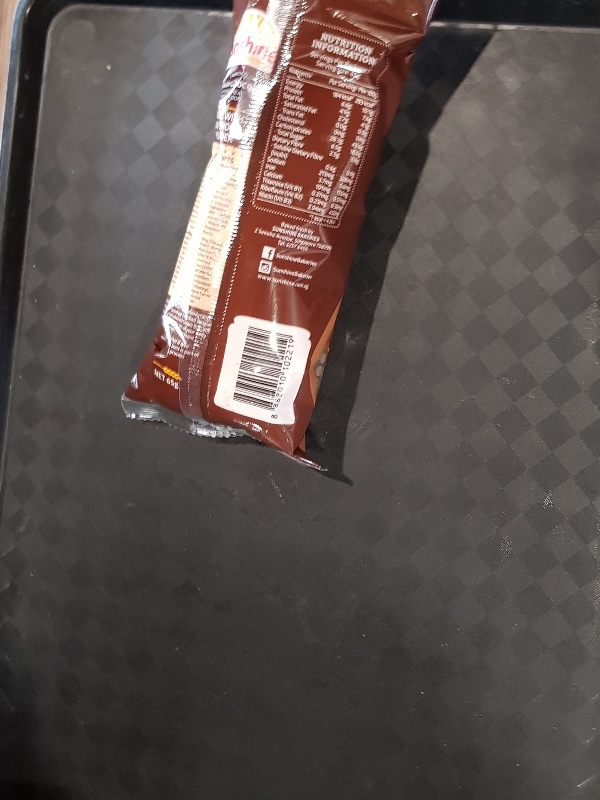Sunshine Belgium Chocolate Wholemeal Cream Bun: (119, 2, 441, 471)
